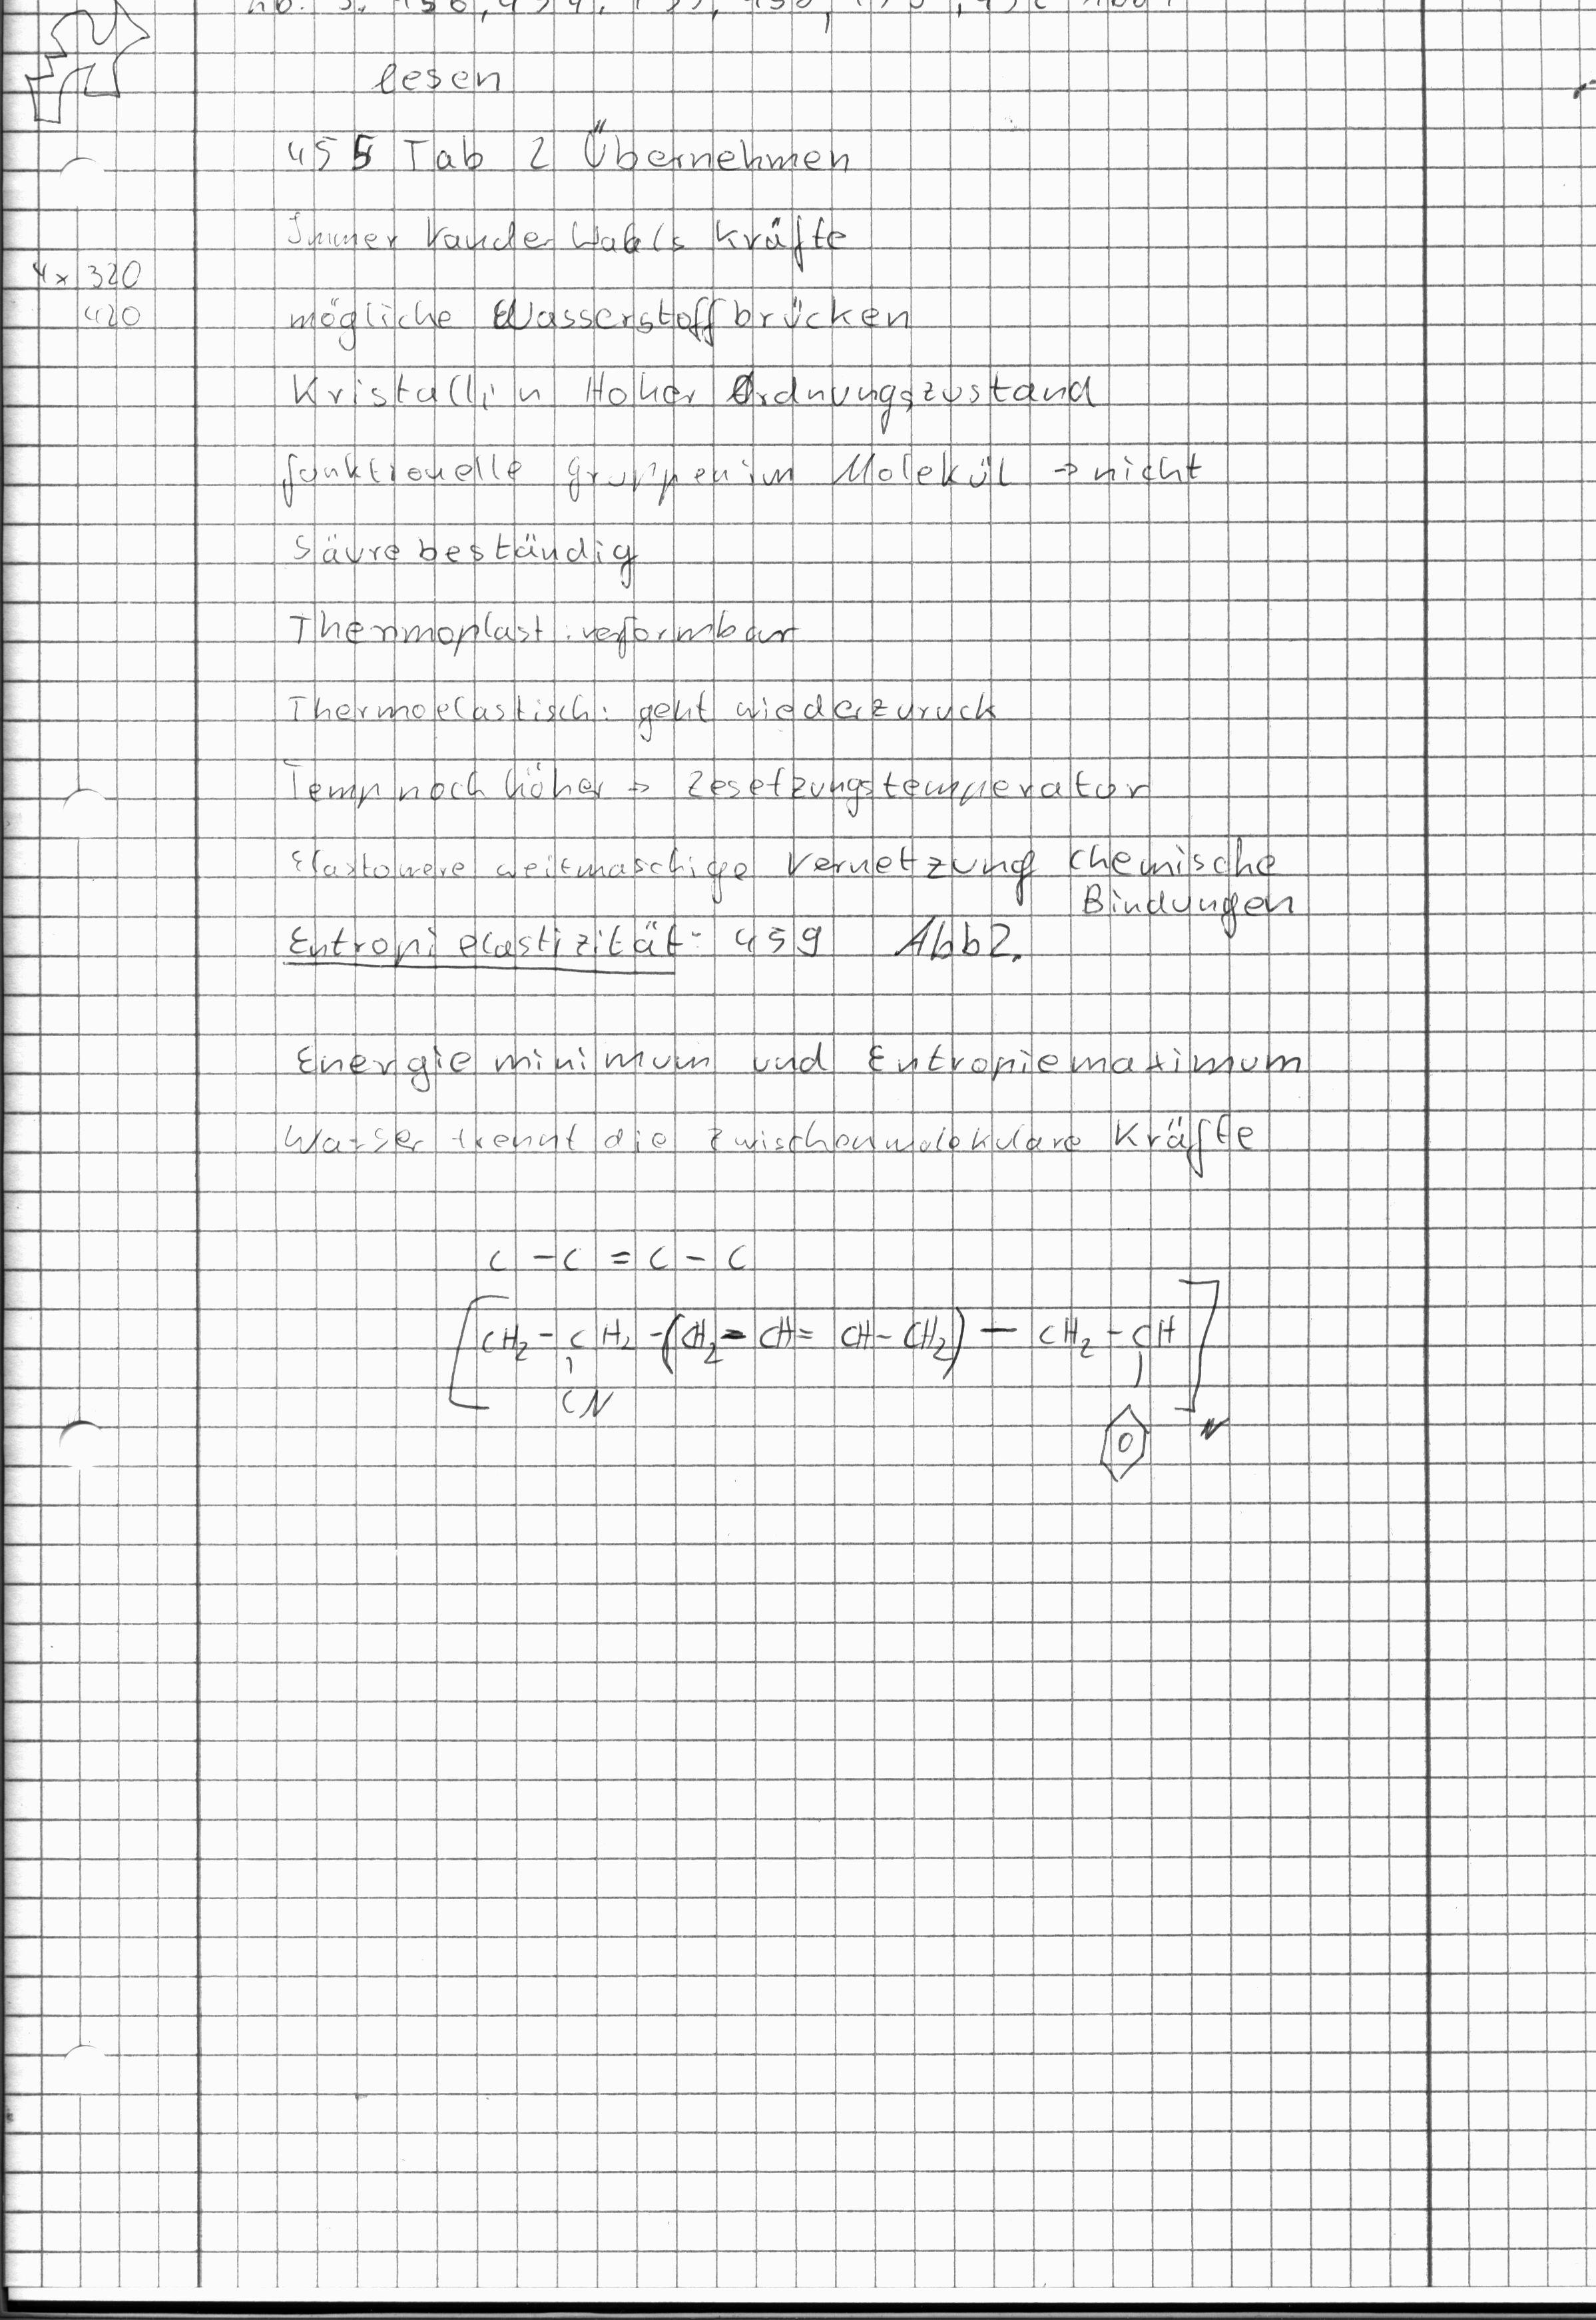word: (443, 1274, 1248, 1493), (276, 1031, 1310, 1188), (267, 356, 1215, 515), (280, 679, 1159, 826), (280, 832, 1049, 976), (274, 200, 916, 370), (280, 525, 808, 666), (270, 112, 860, 194), (1063, 832, 1307, 947), (475, 1226, 766, 1286)
